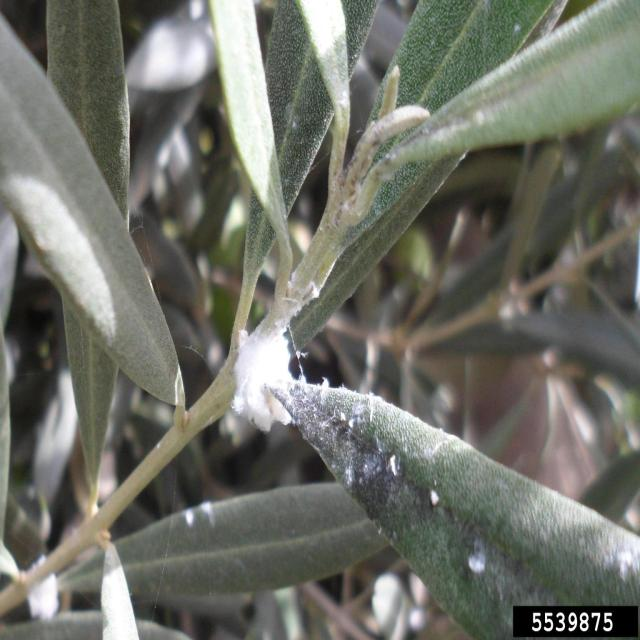Psyllid: (232, 265, 412, 540), (0, 169, 118, 349)
